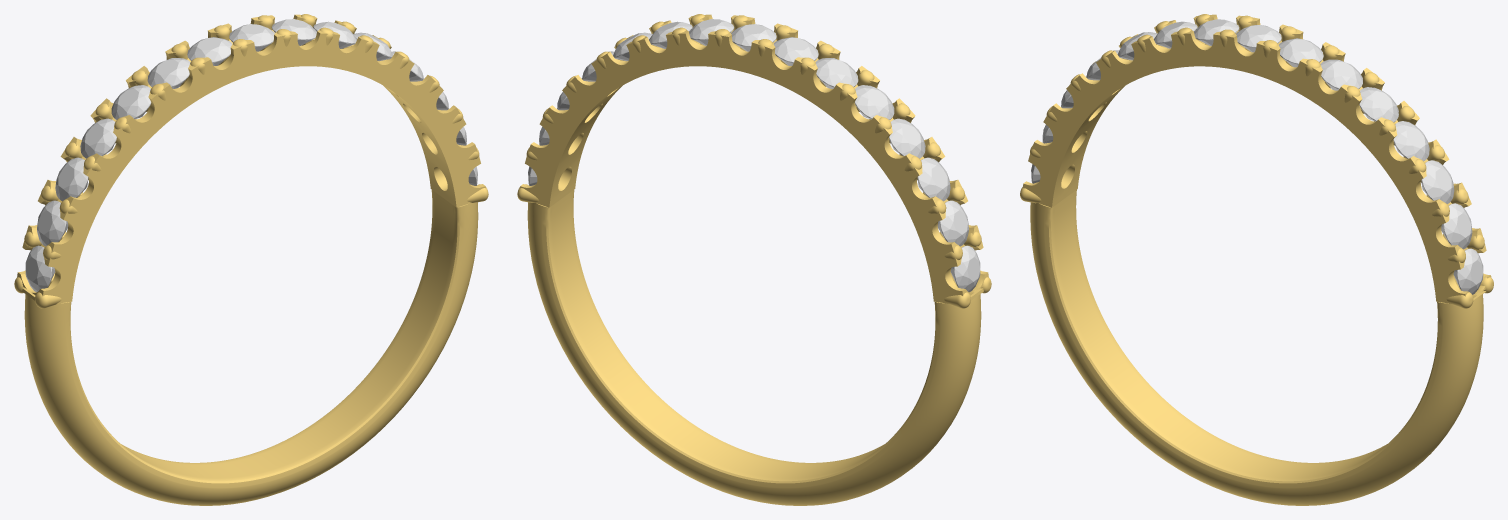
File: GeorgeZygWB_blender.glb
3 views of the same model, side by side, from view 1: azimuth 30°, elevation 25°; view 2: azimuth 150°, elevation 25°; view 3: azimuth 330°, elevation 25° (orthographic).
Parts seen in each view (by area): view 1: George wb YG for 3d model, George wb dia for 3d model.011, George wb dia for 3d model.012, George wb dia for 3d model.010, George wb dia for 3d model.013, George wb dia for 3d model.009, George wb dia for 3d model.014, George wb dia for 3d model.008, George wb dia for 3d model.007, George wb dia for 3d model.006; view 2: George wb YG for 3d model, George wb dia for 3d model.011, George wb dia for 3d model.012, George wb dia for 3d model.010, George wb dia for 3d model.013, George wb dia for 3d model.009, George wb dia for 3d model.014, George wb dia for 3d model.008, George wb dia for 3d model.007, George wb dia for 3d model.006; view 3: George wb YG for 3d model, George wb dia for 3d model.003, George wb dia for 3d model.002, George wb dia for 3d model.004, George wb dia for 3d model.001, George wb dia for 3d model.005, George wb dia for 3d model, George wb dia for 3d model.006, George wb dia for 3d model.007, George wb dia for 3d model.008.
Part boxes in pixels (box(x1,y1,x2,y2)): George wb YG for 3d model: box(14, 14, 488, 505); George wb dia for 3d model.011: box(80, 118, 116, 158); George wb dia for 3d model.012: box(55, 157, 88, 201); George wb dia for 3d model.010: box(111, 85, 151, 119); George wb dia for 3d model.013: box(37, 200, 68, 246); George wb dia for 3d model.009: box(147, 58, 190, 88); George wb dia for 3d model.014: box(25, 245, 55, 292); George wb dia for 3d model.008: box(187, 37, 232, 65); George wb dia for 3d model.007: box(229, 24, 274, 51); George wb dia for 3d model.006: box(271, 19, 316, 45); George wb YG for 3d model: box(517, 14, 991, 505); George wb dia for 3d model.011: box(889, 118, 925, 158); George wb dia for 3d model.012: box(917, 157, 950, 201); George wb dia for 3d model.010: box(854, 85, 894, 119); George wb dia for 3d model.013: box(937, 200, 968, 246); George wb dia for 3d model.009: box(815, 58, 858, 88); George wb dia for 3d model.014: box(950, 245, 980, 292); George wb dia for 3d model.008: box(773, 37, 818, 65); George wb dia for 3d model.007: box(731, 24, 776, 51); George wb dia for 3d model.006: box(689, 19, 734, 45); George wb YG for 3d model: box(1020, 14, 1493, 505); George wb dia for 3d model.003: box(1393, 121, 1429, 161); George wb dia for 3d model.002: box(1421, 160, 1454, 203); George wb dia for 3d model.004: box(1359, 87, 1398, 122); George wb dia for 3d model.001: box(1441, 203, 1472, 249); George wb dia for 3d model.005: box(1320, 59, 1362, 90); George wb dia for 3d model: box(1453, 248, 1483, 294); George wb dia for 3d model.006: box(1278, 38, 1323, 67); George wb dia for 3d model.007: box(1236, 25, 1281, 52); George wb dia for 3d model.008: box(1194, 19, 1239, 45).
Bounding box in the file's own units: 22.12 × 22.05 × 2.53.
